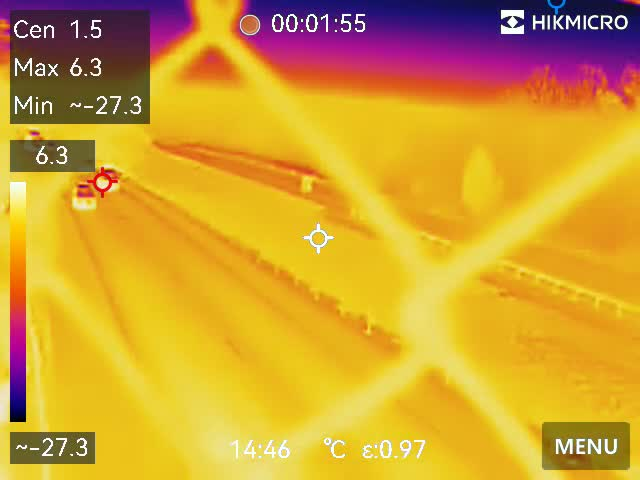vehicle: (64, 178, 101, 211), (97, 163, 126, 191)
